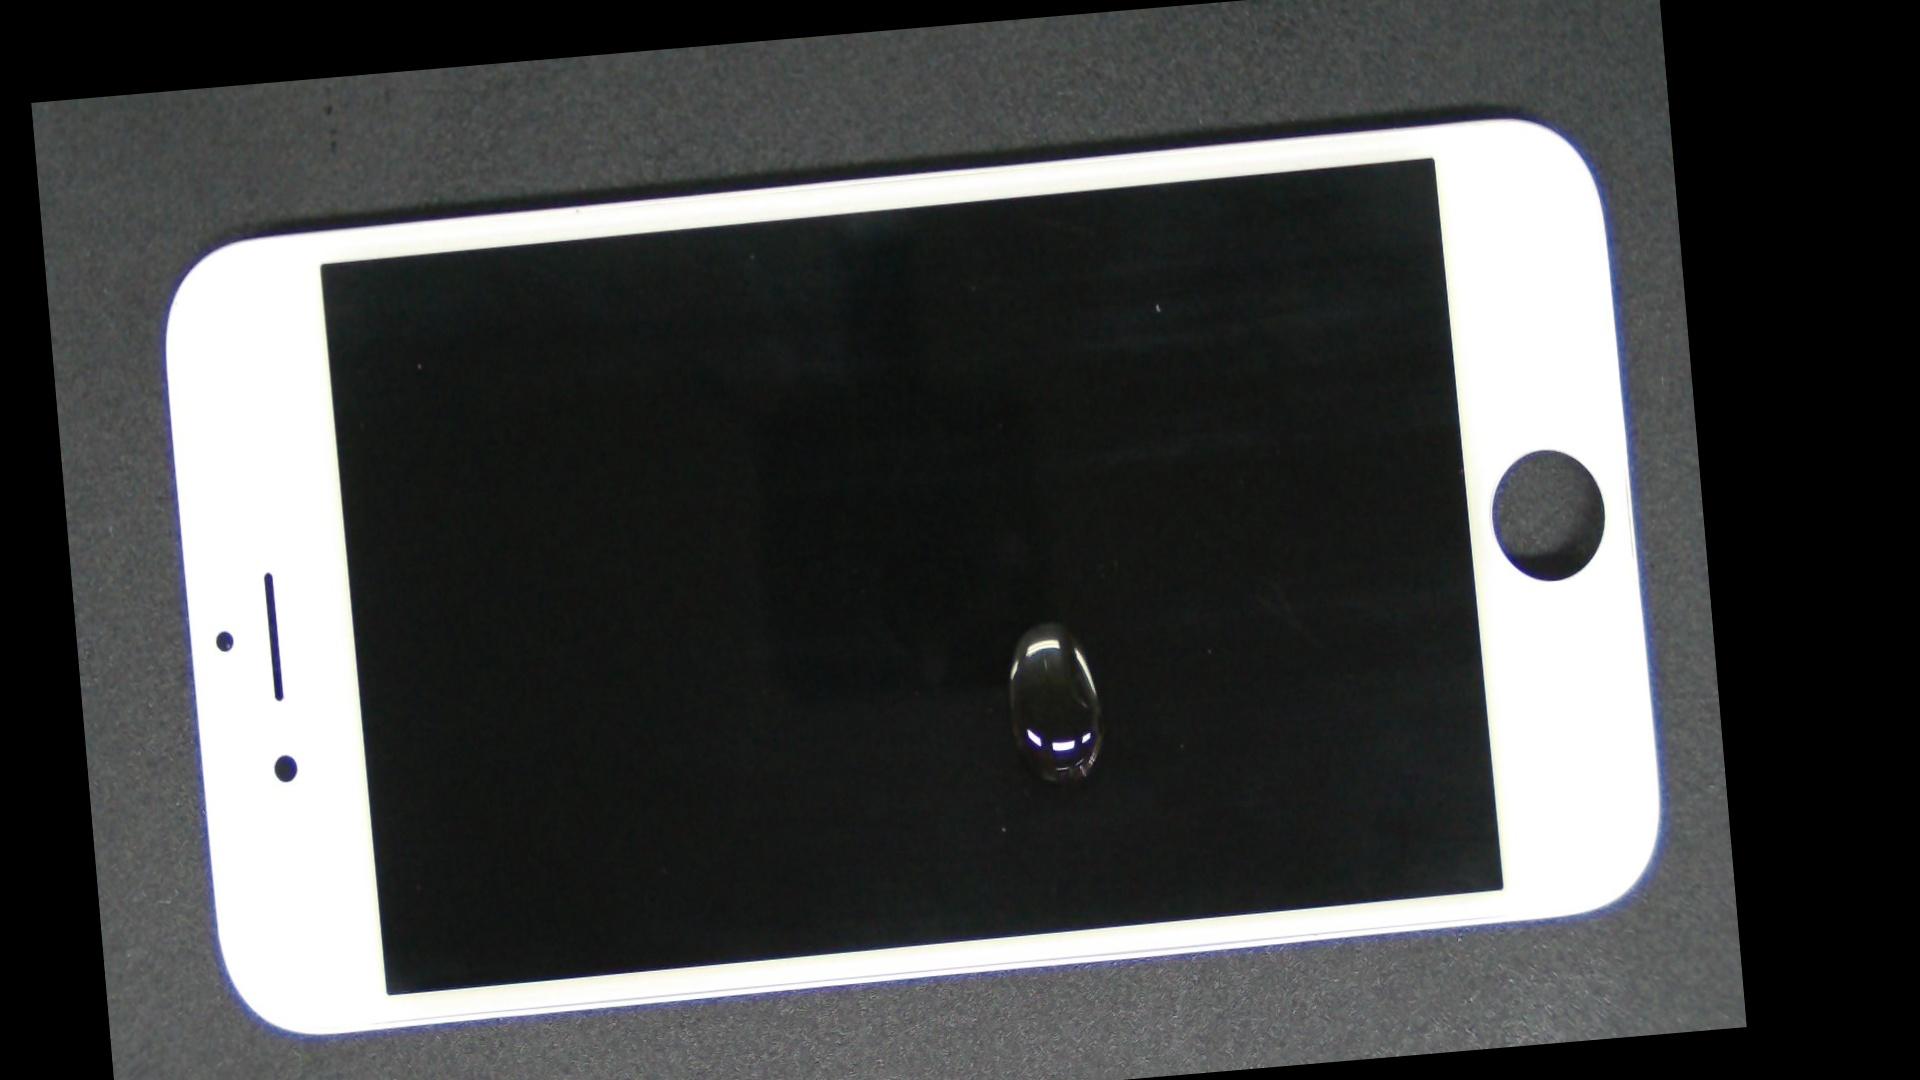oil: (538, 281, 1549, 964)
